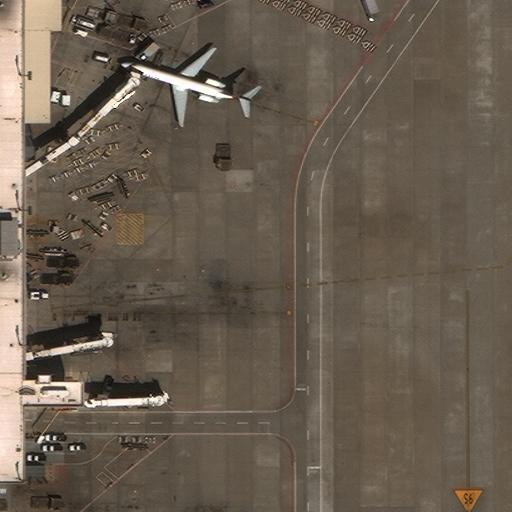Medium Civil Transport: (120, 47, 251, 126)
